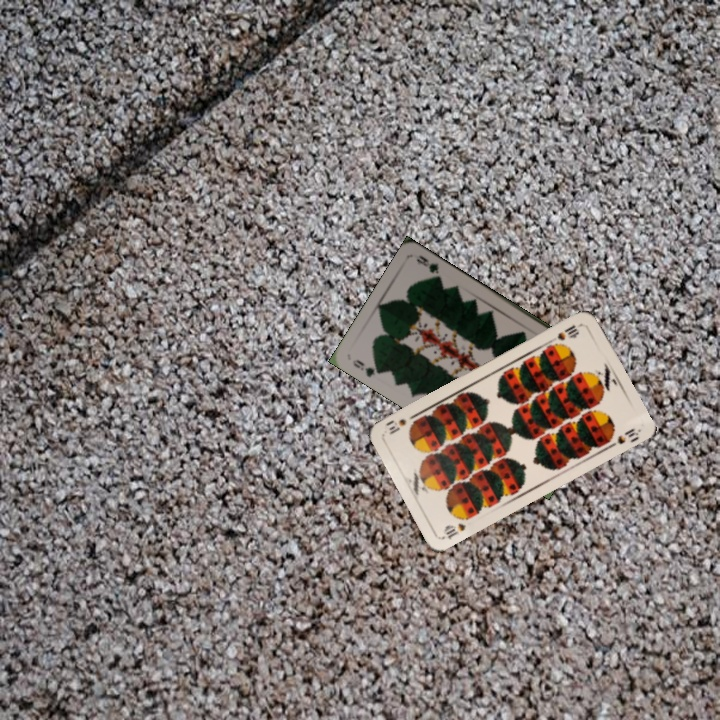G9: (348, 355, 386, 380)
S10: (549, 321, 582, 349), (440, 519, 468, 542)
